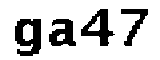4: (78, 10, 115, 49)
7: (118, 6, 150, 50)
a: (47, 17, 78, 50)
g: (8, 13, 41, 60)
